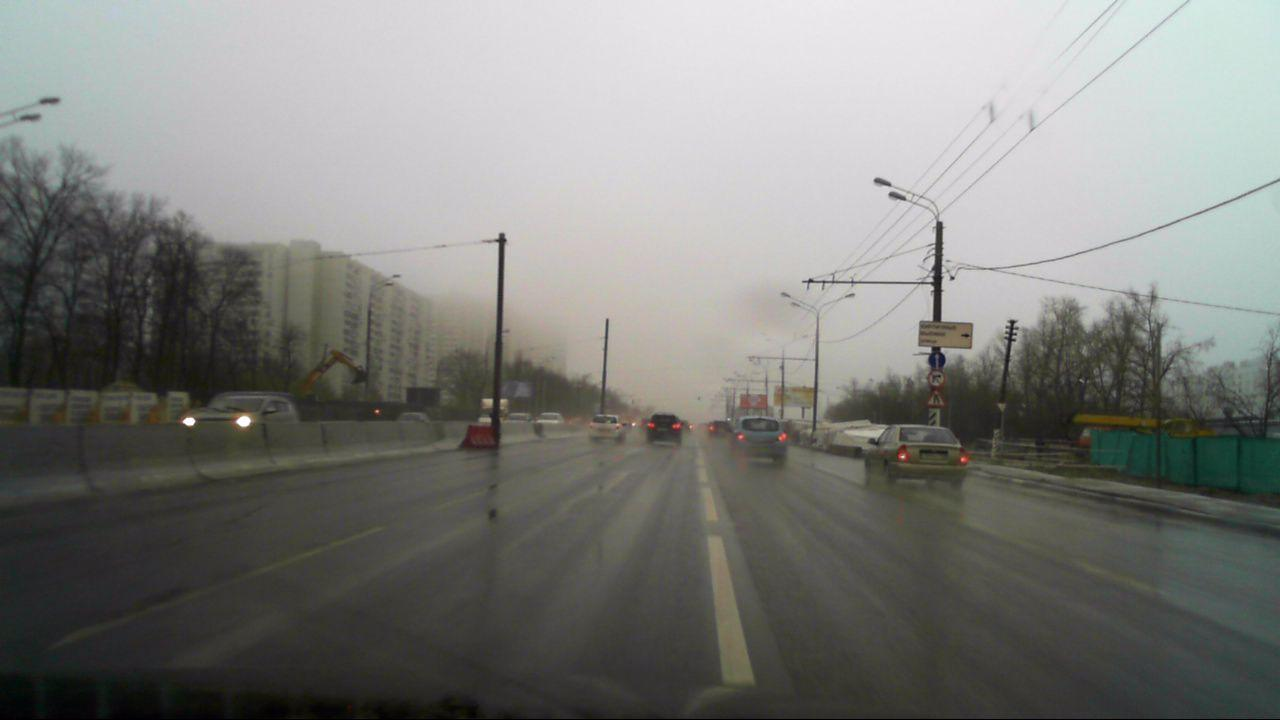road_sign: (924, 387, 949, 409), (928, 350, 946, 370), (928, 369, 947, 387)
